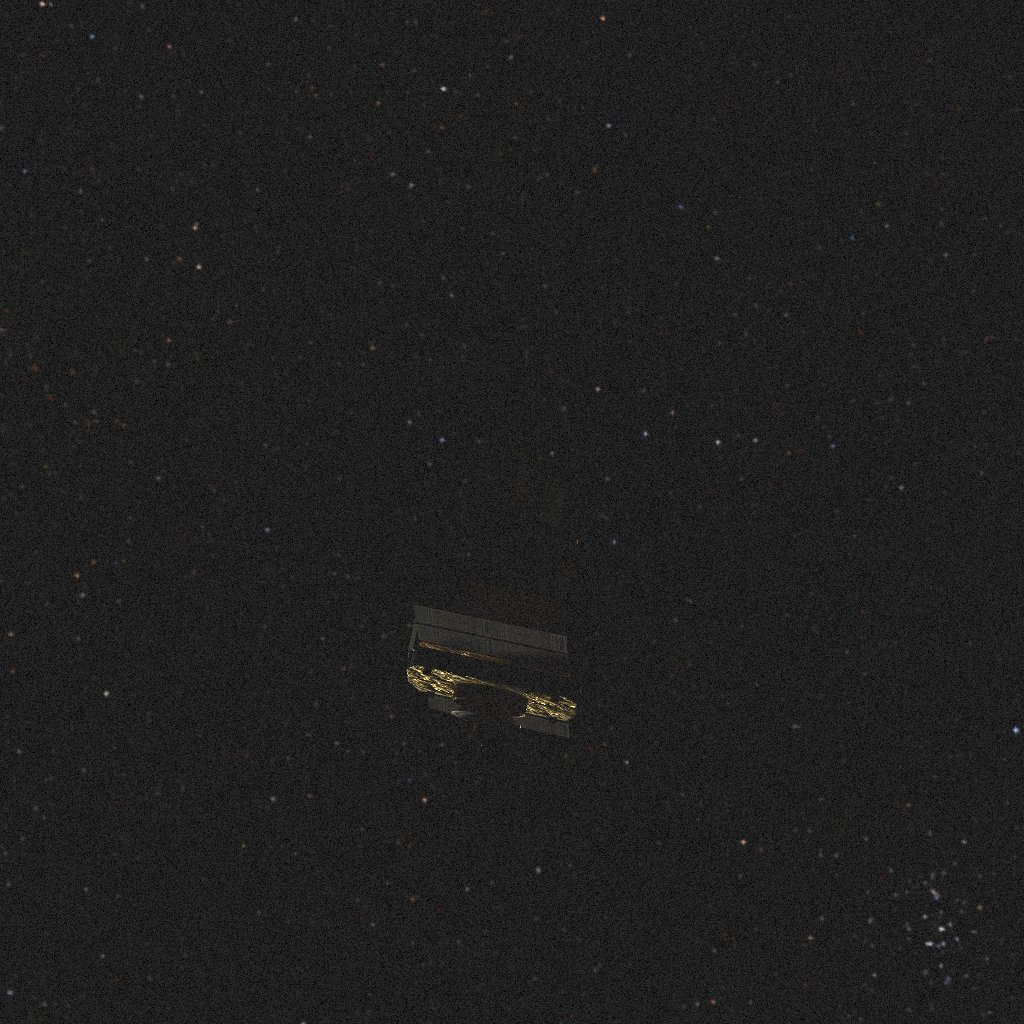soho: (386, 449, 593, 751)
